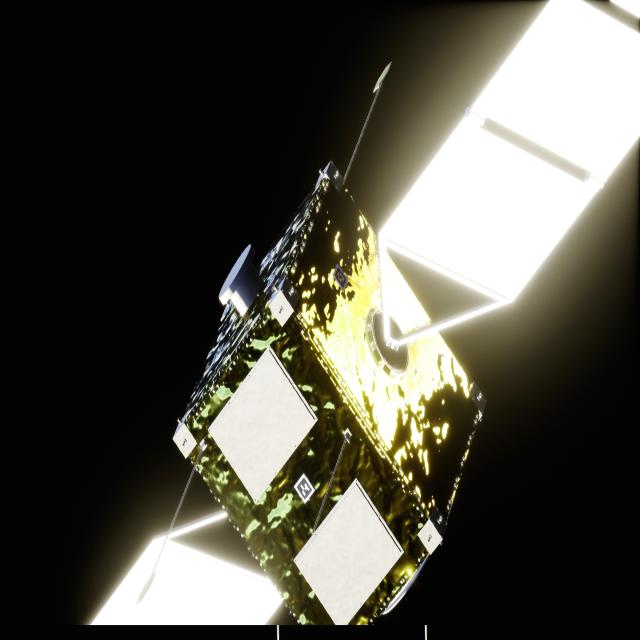medium_debris: (92, 0, 640, 627)
